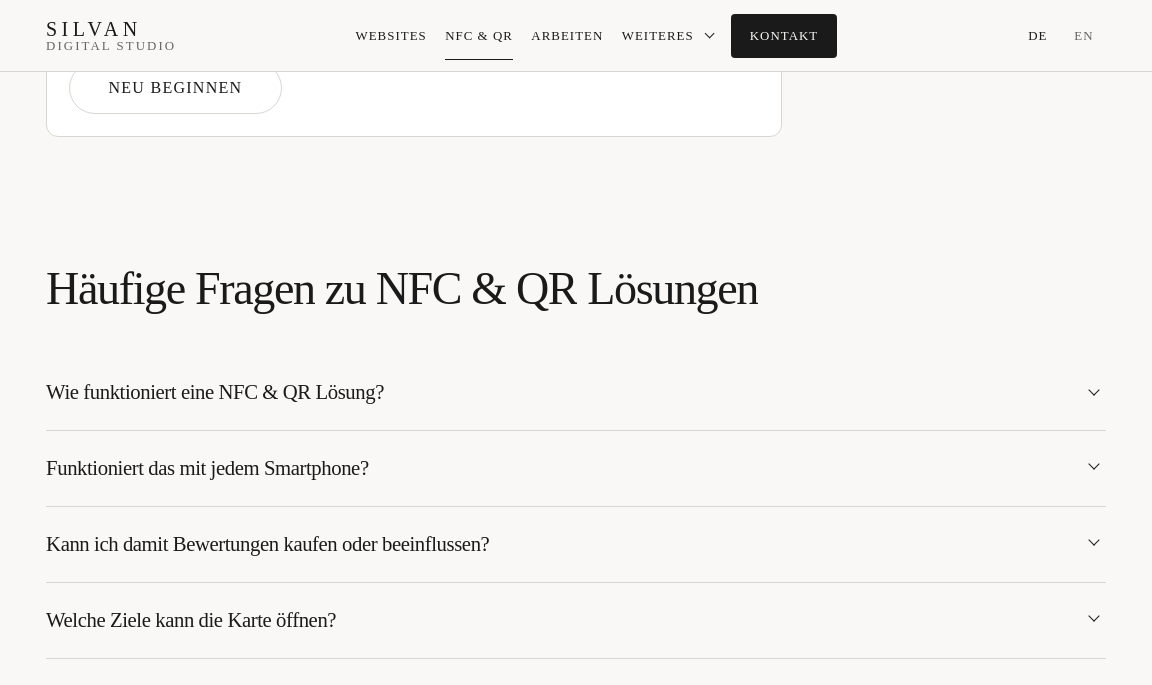
service page FAQs › renders every reviews (de) question with an accessible answer disclosure
(page scrolled)
Expected: the heading "Häufige Fragen zu NFC & QR Lösungen" is shown, [46,265,878,312]
Click the heading "Wie funktioniert eine NFC & QR Lösung?".
click(215, 392)  # box [46,381,384,403]
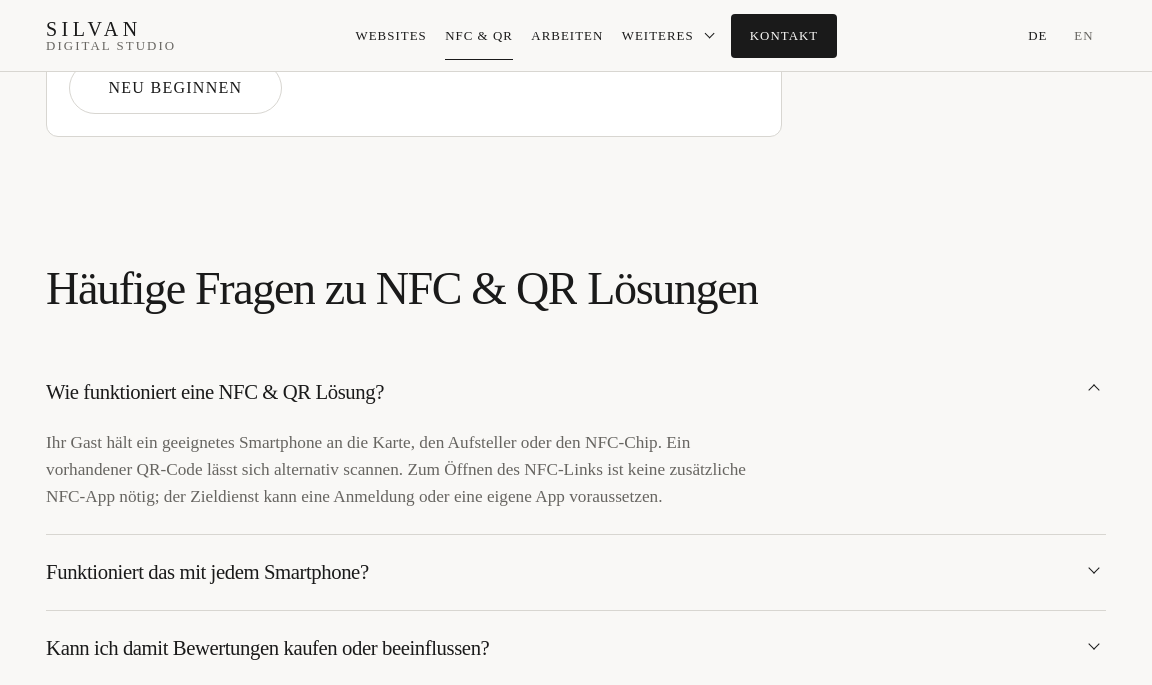
Now the text "Ihr Gast hält ein geeignetes Smartphone an die Karte, den Aufsteller oder den NFC-Chip. Ein vorhandener QR-Code lässt si" is shown, box [46,433,746,506]
Click the heading "Funktioniert das mit jedem Smartphone?".
click(207, 572)  # box [46,561,369,583]
(page scrolled)
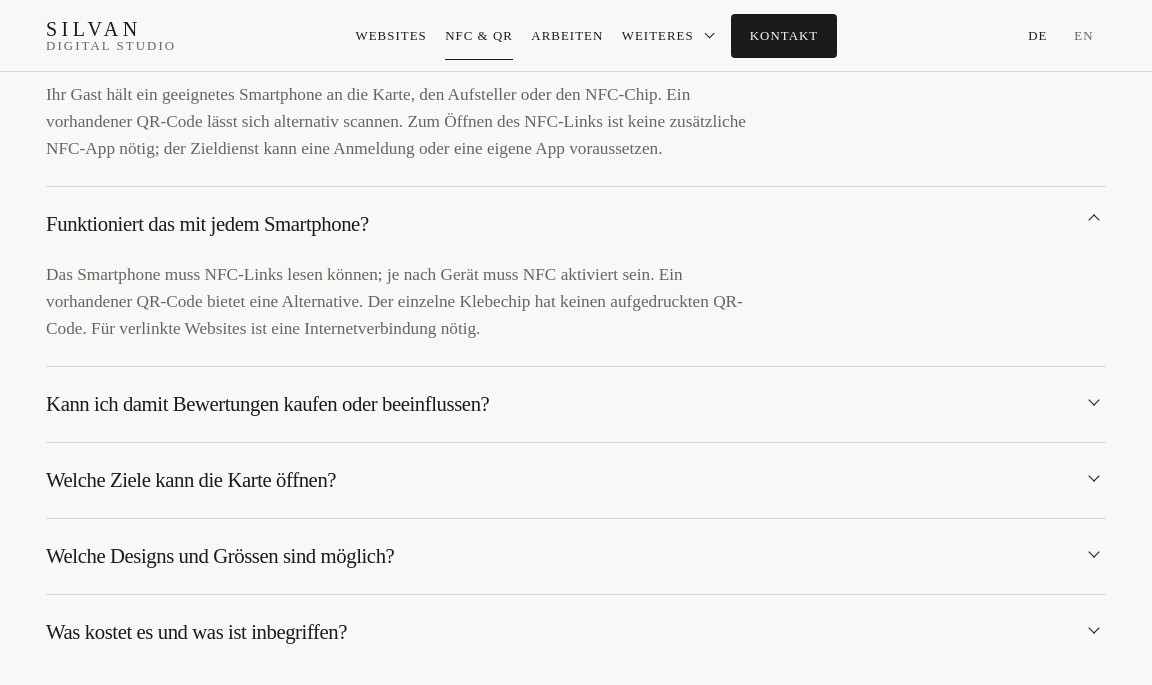
Now the text "Das Smartphone muss NFC-Links lesen können; je nach Gerät muss NFC aktiviert sein. Ein vorhandener QR-Code bietet eine A" is shown, box [46,265,743,338]
Click the heading "Kann ich damit Bewertungen kaufen oder beeinflussen?".
click(268, 404)  # box [46,393,489,415]
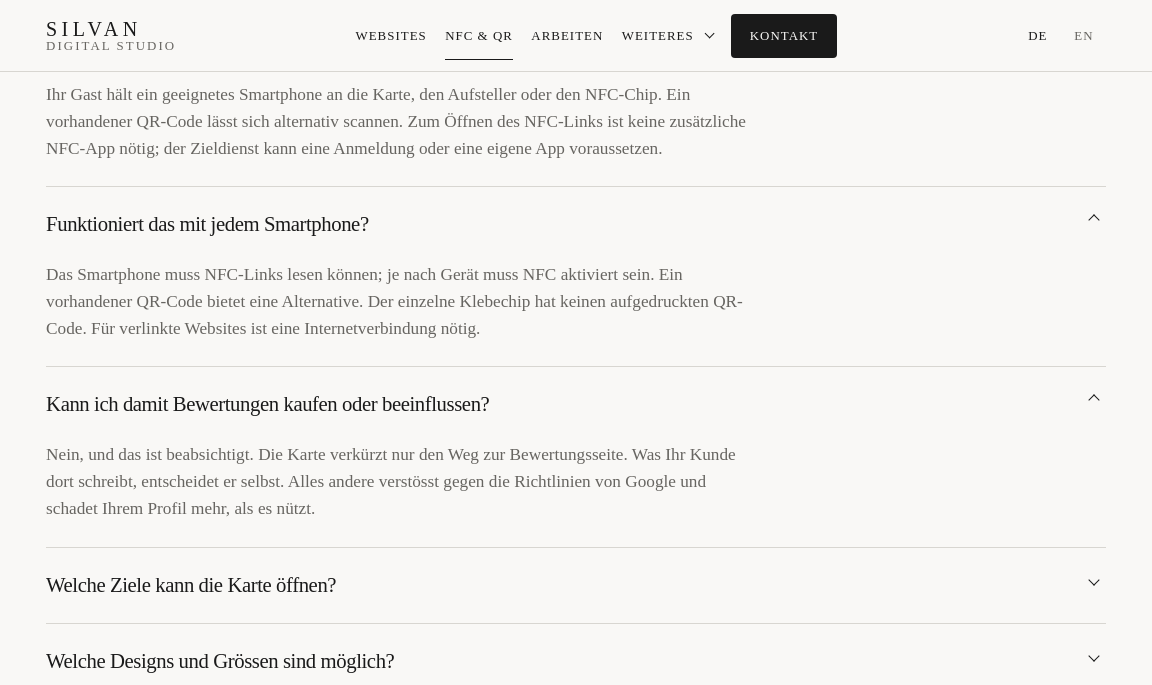
Now the text "Nein, und das ist beabsichtigt. Die Karte verkürzt nur den Weg zur Bewertungsseite. Was Ihr Kunde dort schreibt, entsche" is shown, box [46,445,736,518]
Click the heading "Welche Ziele kann die Karte öffnen?".
click(191, 585)  # box [46,574,336,596]
(page scrolled)
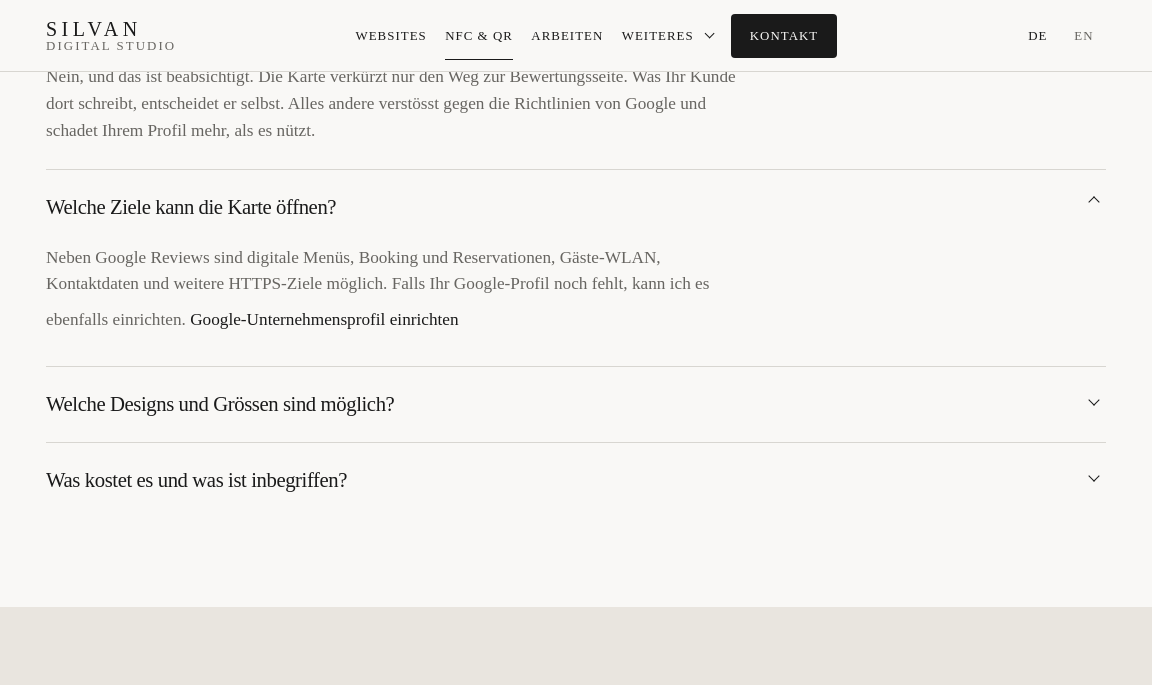
Now the text "Neben Google Reviews sind digitale Menüs, Booking und Reservationen, Gäste-WLAN, Kontaktdaten und weitere HTTPS-Ziele mö" is shown, box [46,248,710,329]
Click the heading "Welche Designs und Grössen sind möglich?".
click(220, 404)  # box [46,393,394,415]
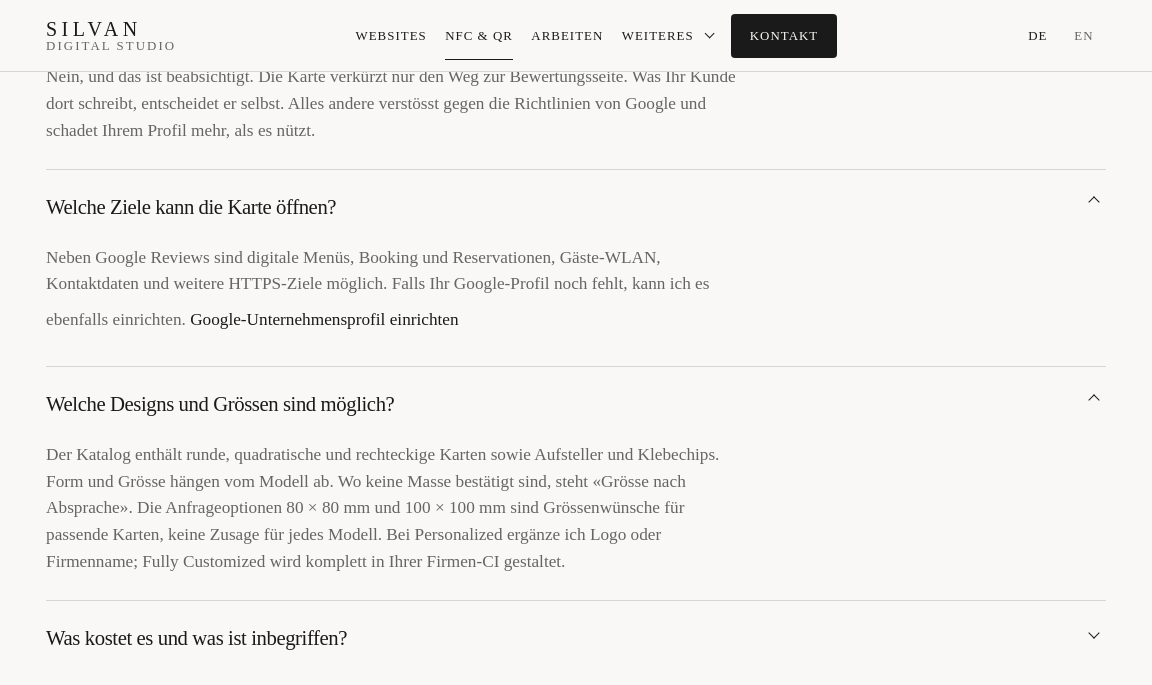
Now the text "Der Katalog enthält runde, quadratische und rechteckige Karten sowie Aufsteller und Klebechips. Form und Grösse hängen v" is shown, box [46,445,719,571]
Click the heading "Was kostet es und was ist inbegriffen?".
click(197, 638)  # box [46,627,347,649]
(page scrolled)
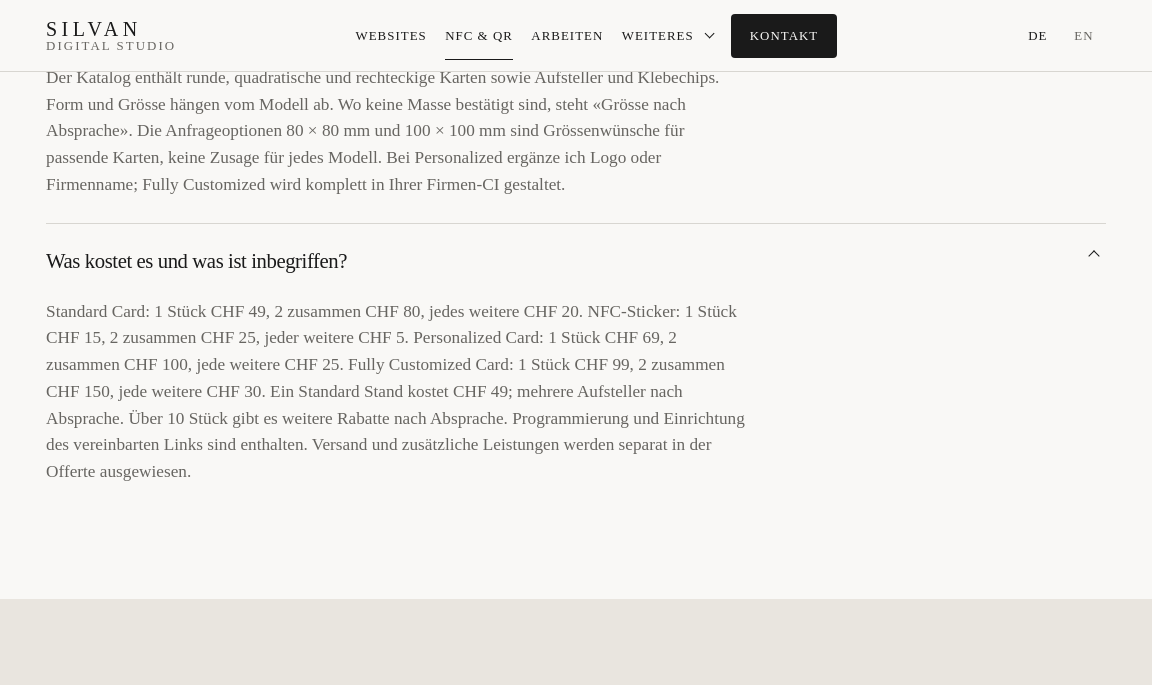
Now the text "Standard Card: 1 Stück CHF 49, 2 zusammen CHF 80, jedes weitere CHF 20. NFC-Sticker: 1 Stück CHF 15, 2 zusammen CHF 25, " is shown, box [46,302,745,481]
